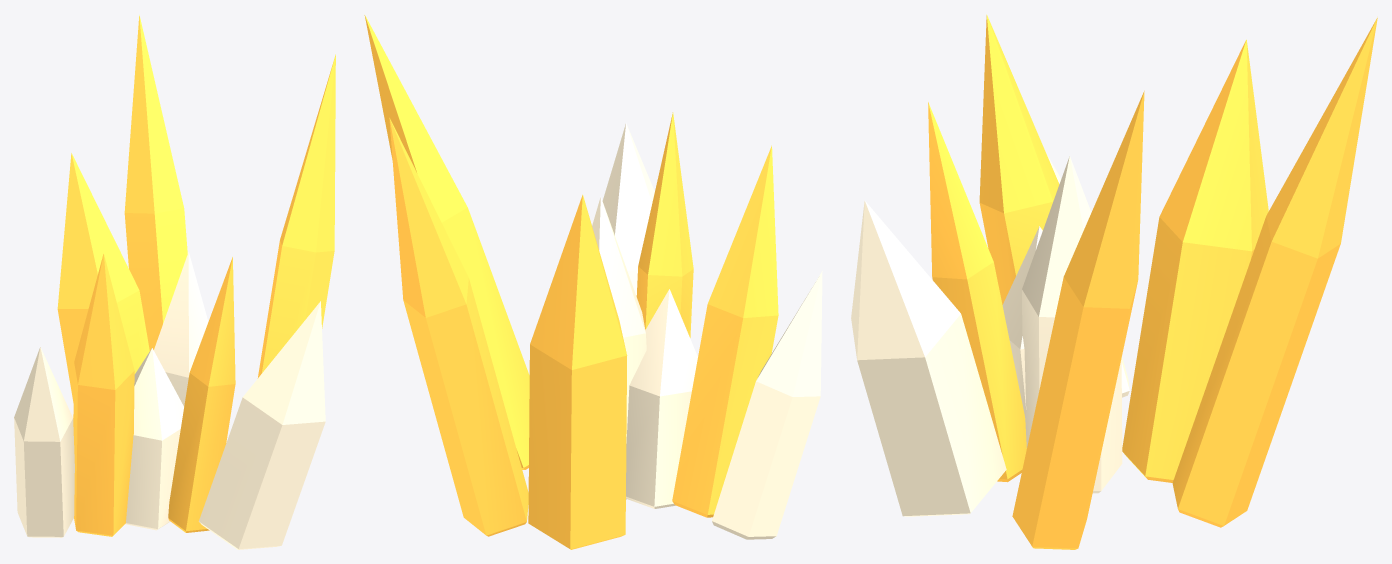
Rendered from core_spires.glb.
3 renders of one model, left to right at view 1: azimuth 30°, elevation 25°; view 2: azimuth 150°, elevation 25°; view 3: azimuth 270°, elevation 25°, orthographic. The views are drawn at different scales.
Visible parts, largest first — view 1: CoreSpires; view 2: CoreSpires; view 3: CoreSpires.
Part boxes in pixels (x1=…): CoreSpires: x1=14, y1=15, x2=335, y2=549; CoreSpires: x1=364, y1=15, x2=822, y2=549; CoreSpires: x1=851, y1=14, x2=1377, y2=549.
Bounding box in the file's own units: 2.2 × 2.35 × 2.14.
